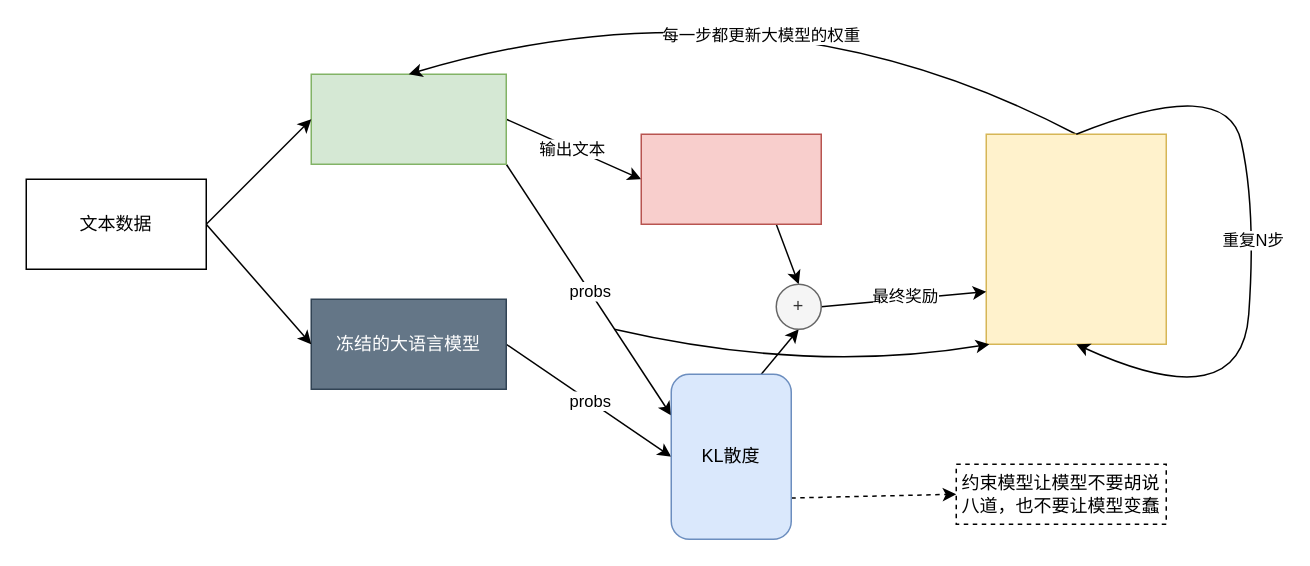
The diagram is 1310 pixels wide and 566 high, and some of its shapes have lost their labels. The centre of each missing label's shape, as x and y in pixels:
"PPO算法 更新大模型" goes at [1075,238].
"奖励模型" goes at [730,178].
"需要微调的大语言模型" goes at [408,118].
